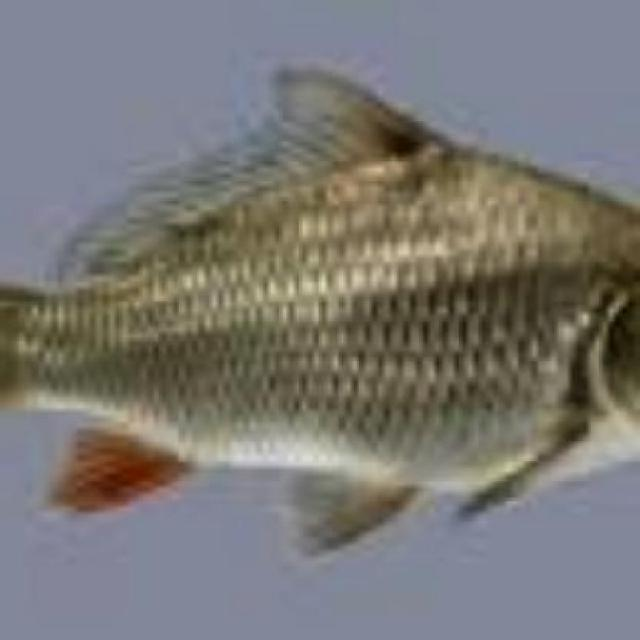ikan-mas: (0, 70, 640, 536)
